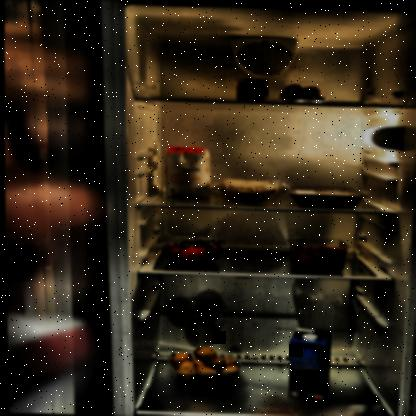corn: (233, 74, 269, 101)
eggs: (277, 81, 324, 99)
milk: (285, 324, 333, 402)
potato: (166, 344, 240, 381)
strawberries: (289, 242, 353, 269)
tomato: (162, 237, 223, 266)
